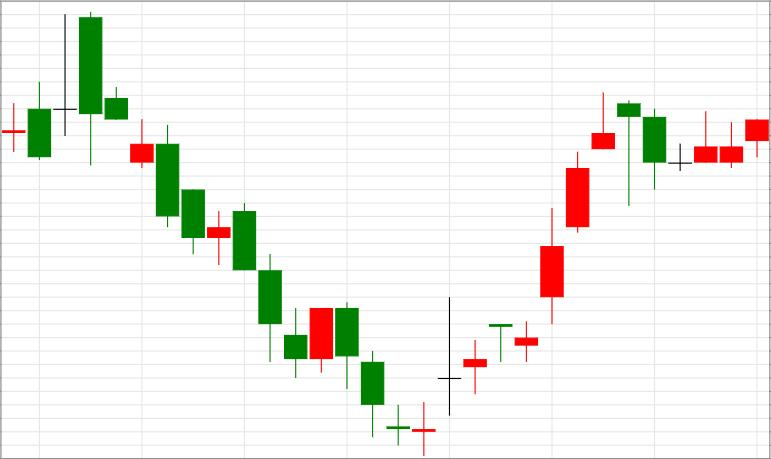evening_star_fall: (514, 92, 665, 363)
